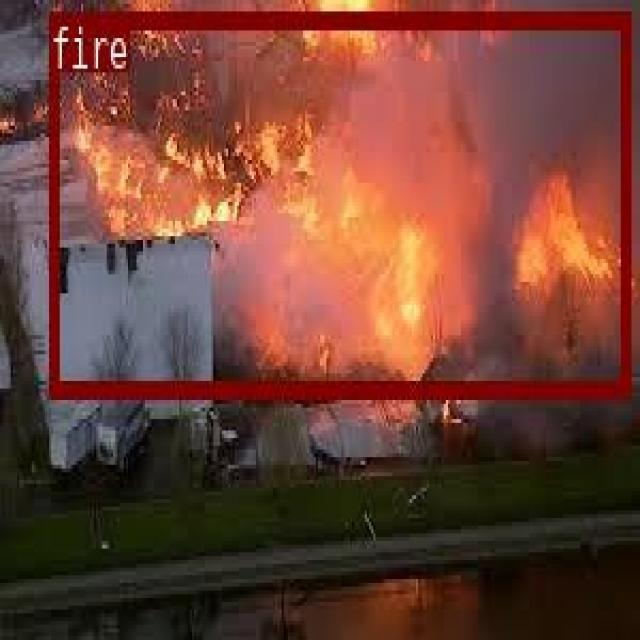fire: (49, 8, 628, 394)
